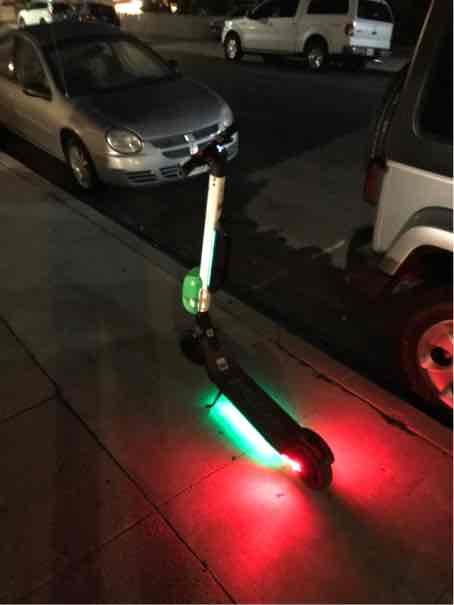scooter: (163, 106, 350, 501)
